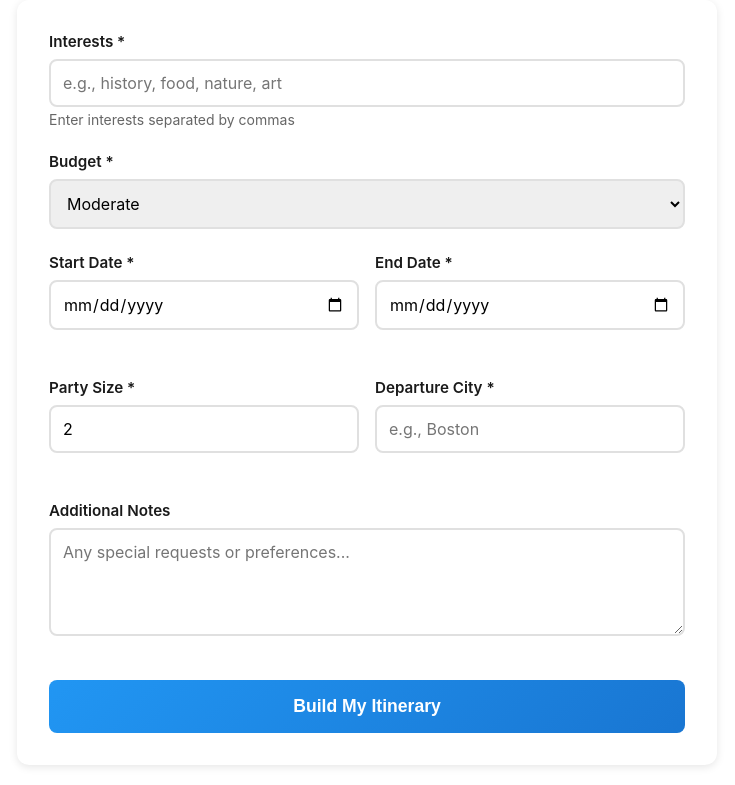
Test: CustomerForm › should update the end date when a new start date is after the current end date
The width and height of the screenshot is (735, 785).
In the date field labelled "Start Date *": (204, 305) [49,280,359,330], type "2026-07-01"
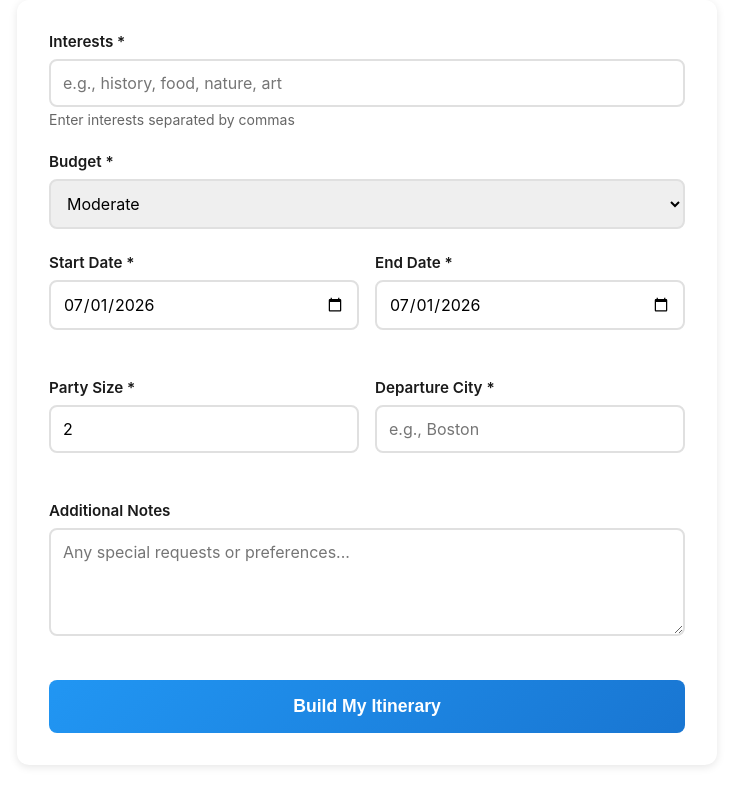
In the date field labelled "End Date *": (530, 305) [375,280,685,330], type "2026-07-05"
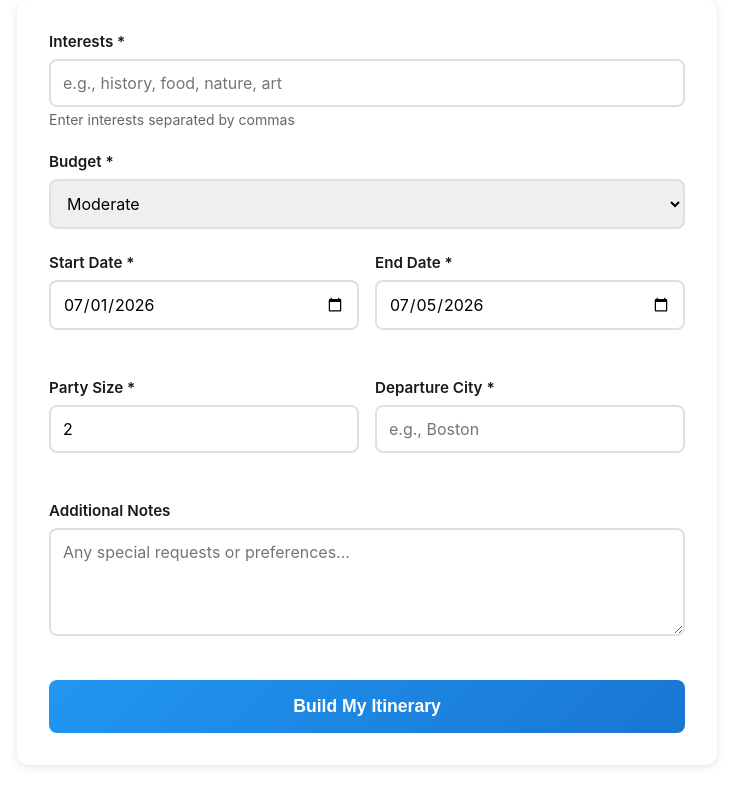
In the date field labelled "Start Date *": (204, 305) [49,280,359,330], type "2026-07-10"
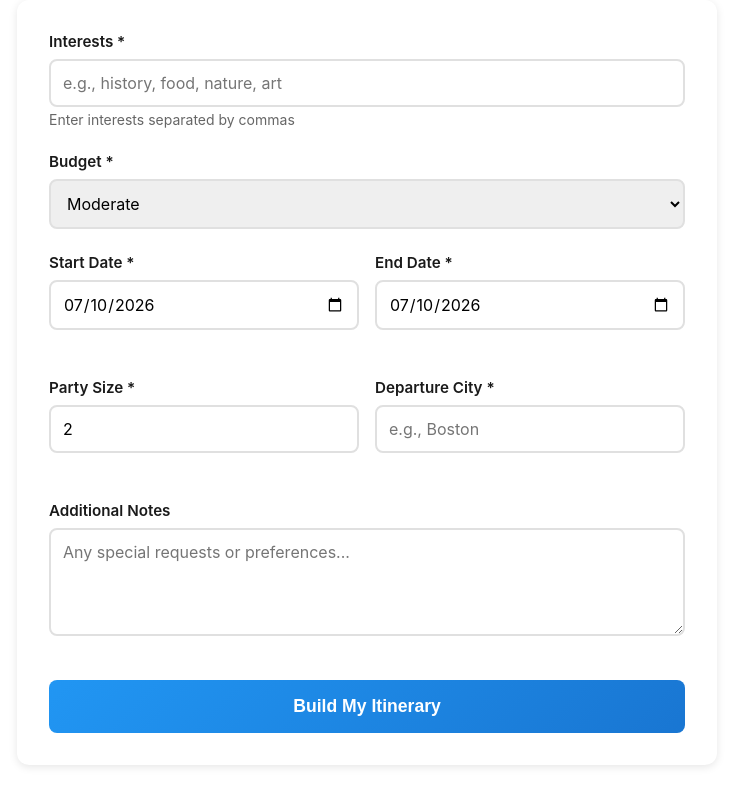
Check: the date field labelled "End Date *" holds "2026-07-10", box [375,280,685,330]
